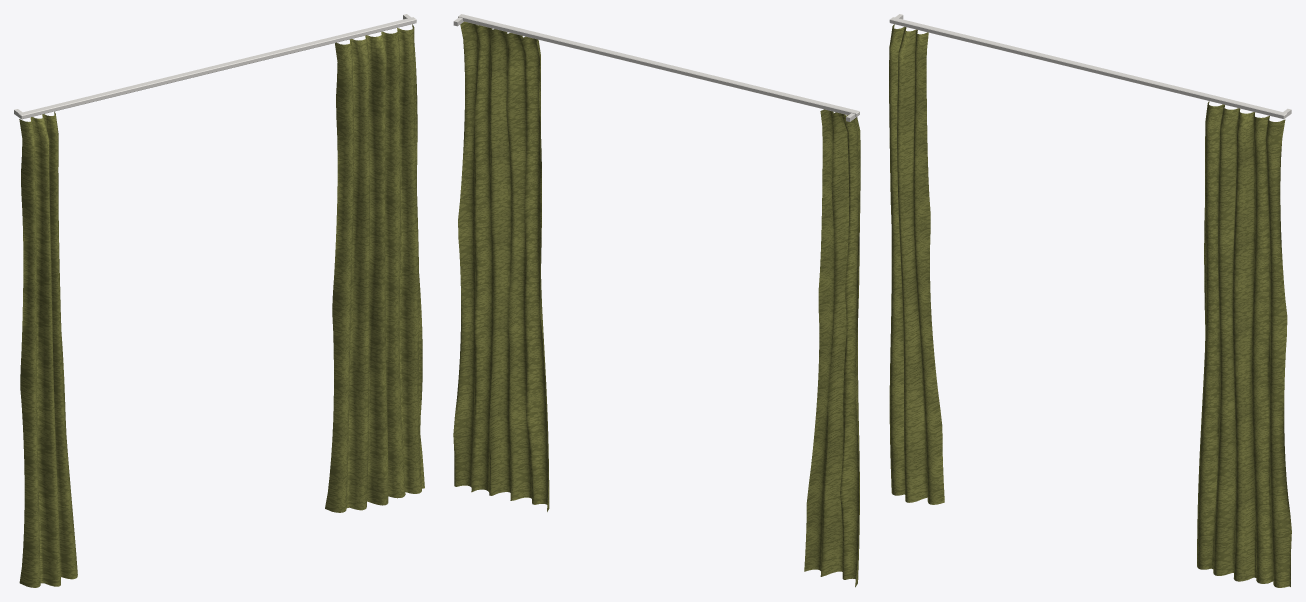
File: drapes_avocado.glb
3 renders of one model, left to right at view 1: azimuth 30°, elevation 25°; view 2: azimuth 150°, elevation 25°; view 3: azimuth 330°, elevation 25°, orthographic.
Visible parts, largest first — view 1: drapes_avocado; view 2: drapes_avocado; view 3: drapes_avocado.
Part boxes in pixels (x1,y1,x2,y2): drapes_avocado: [14, 14, 424, 587]; drapes_avocado: [453, 14, 860, 587]; drapes_avocado: [889, 14, 1291, 587].
Size of the model in its own units: 2.47 by 2.75 by 0.1972.
2 materials, 1 textured.
